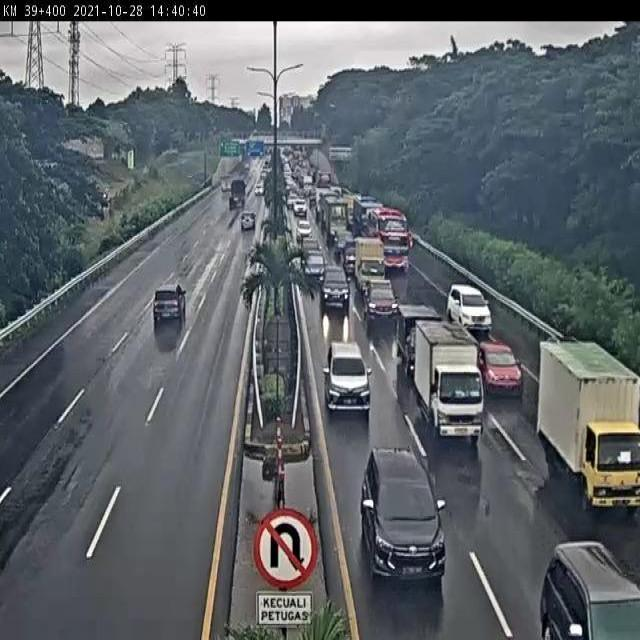bus-l-: (369, 207, 411, 268)
car: (362, 445, 447, 579), (325, 343, 372, 409), (477, 339, 522, 393), (453, 277, 499, 327), (361, 273, 396, 319), (152, 287, 185, 329), (319, 263, 349, 308)
truck-m-: (536, 343, 640, 512)
truck-s-: (415, 320, 484, 439), (397, 303, 441, 372), (355, 234, 383, 290)
